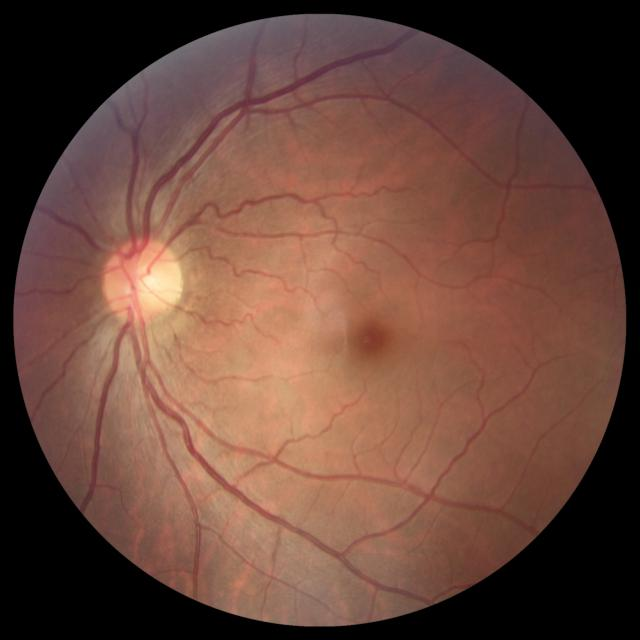OC: (120, 255, 170, 305)
OD: (102, 238, 186, 324)
